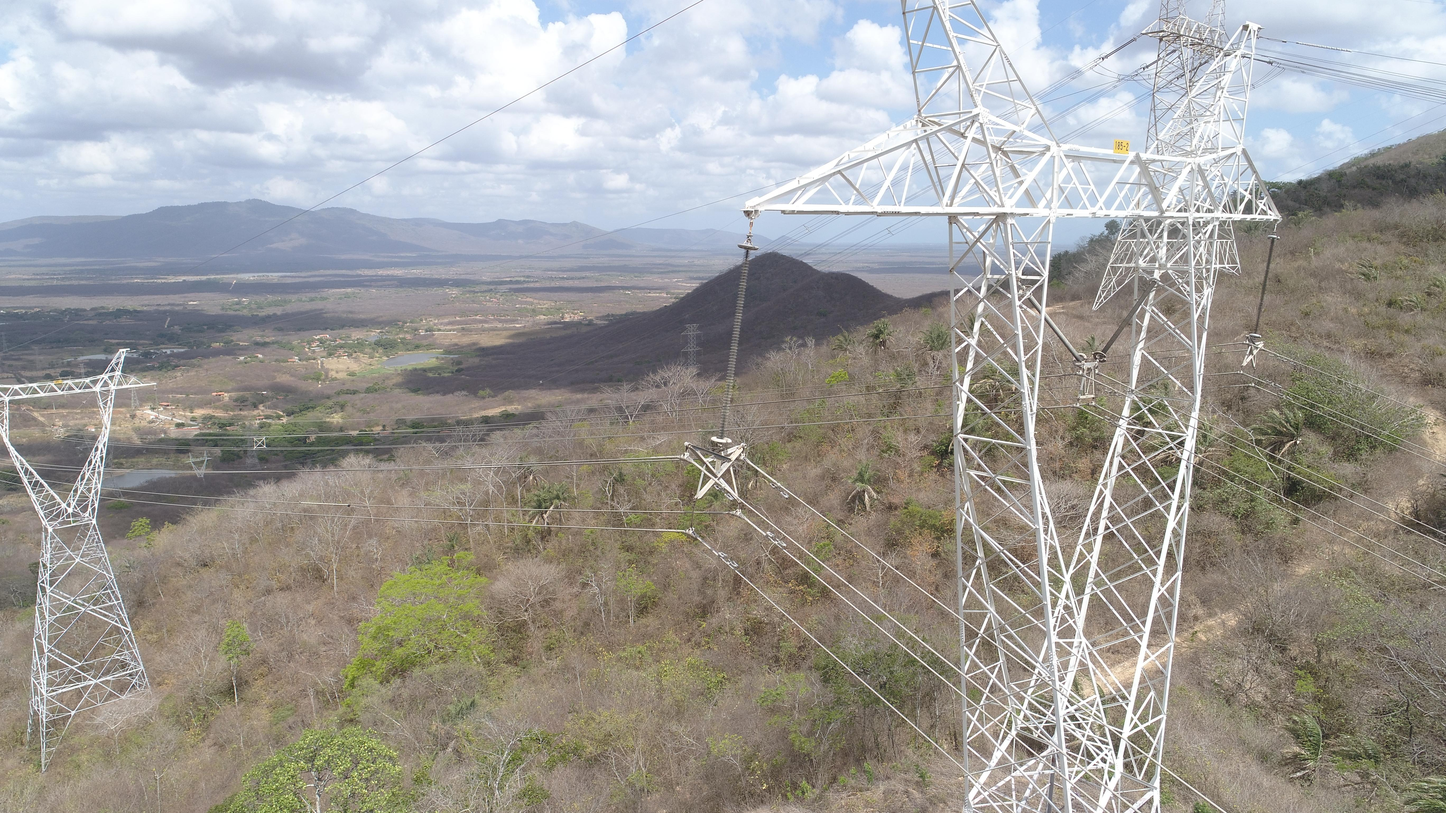power_tower: (679, 1, 1281, 813), (0, 344, 154, 776), (1092, 3, 1284, 316), (676, 315, 707, 387), (186, 451, 214, 493), (123, 374, 144, 410)
